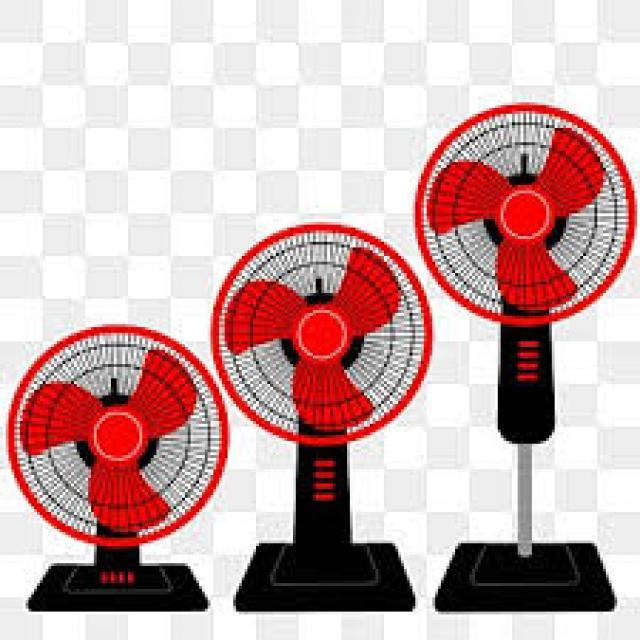fan: (402, 88, 640, 629), (190, 208, 432, 623), (12, 312, 232, 622)
